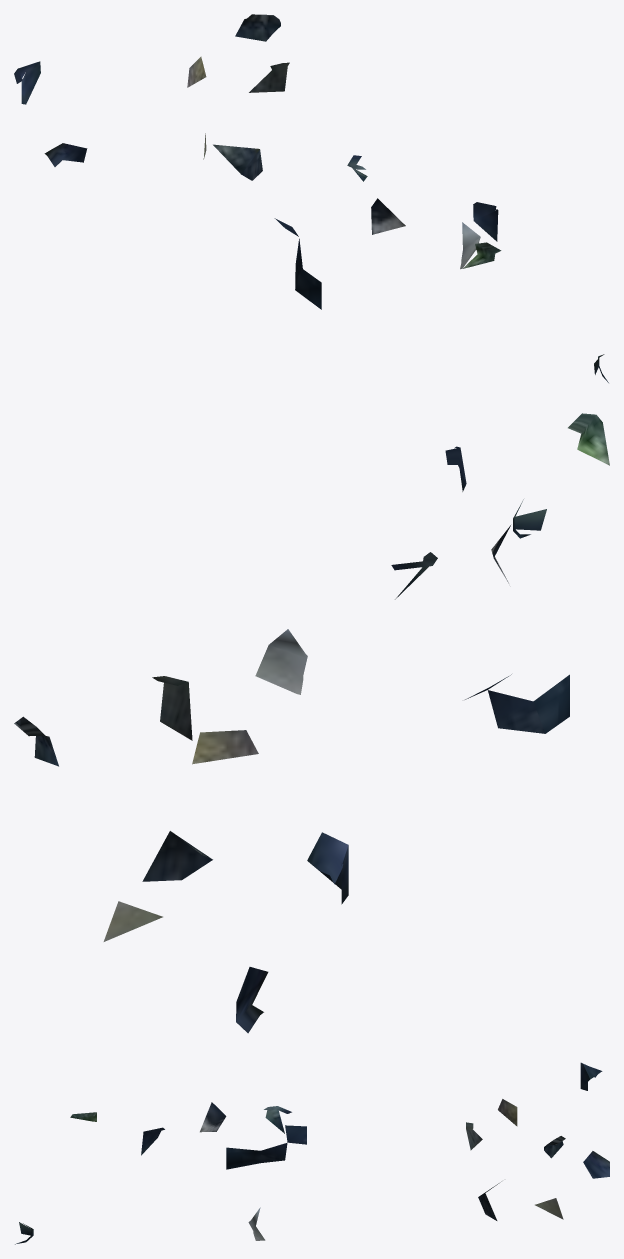
3 renders of one model, top to bottom at view 1: azimuth 30°, elevation 25°; view 2: azimuth 150°, elevation 25°; view 3: azimuth 270°, elevation 25°, orthographic. The views are drawn at different scales.
Visible parts, largest first — view 1: 30436272704370437430_1; view 2: 30436272704370437430_1; view 3: 30436272704370437430_1.
Part boxes in pixels (bbox=[...]): 30436272704370437430_1: bbox=[14, 14, 608, 382]; 30436272704370437430_1: bbox=[14, 413, 609, 1033]; 30436272704370437430_1: bbox=[15, 1062, 609, 1244].
Size of the model in its own units: 15.04 by 7.4 by 37.64.
Materials: 1 (1 with a texture image).
